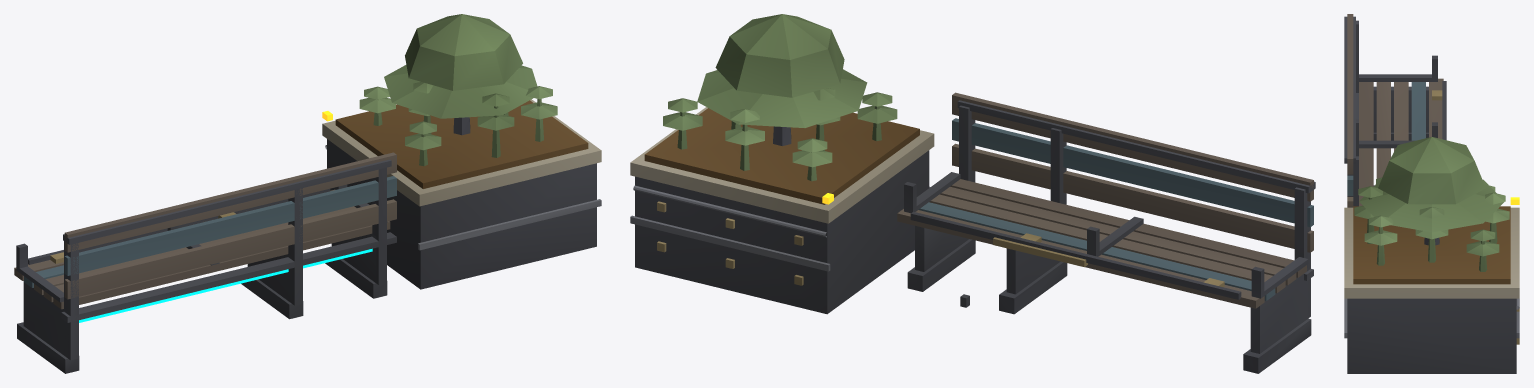
File: bench_planter.glb
3 views of the same model, side by side, from view 1: azimuth 30°, elevation 25°; view 2: azimuth 150°, elevation 25°; view 3: azimuth 270°, elevation 25° (orthographic). The views are drawn at different scales.
Visible parts, largest first — view 1: bench_planter; view 2: bench_planter; view 3: bench_planter.
Boxes of the visible parts, <box> form: bench_planter: <box>14,14,601,373</box>; bench_planter: <box>630,14,1315,373</box>; bench_planter: <box>1344,14,1519,373</box>.
Bounding box in the file's own units: 3.81 × 1.5 × 1.2.
